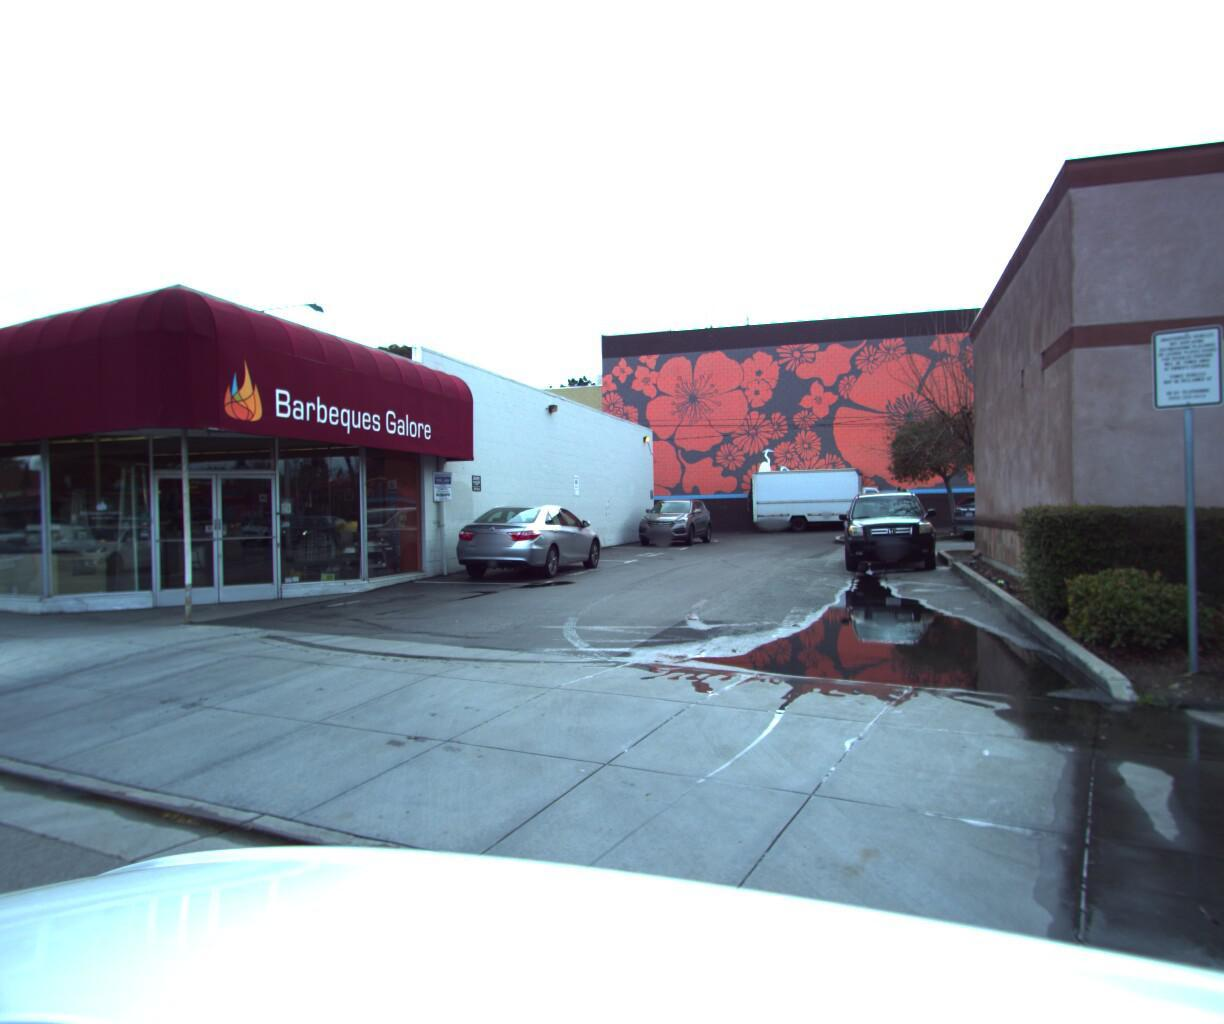car: (445, 497, 604, 580)
